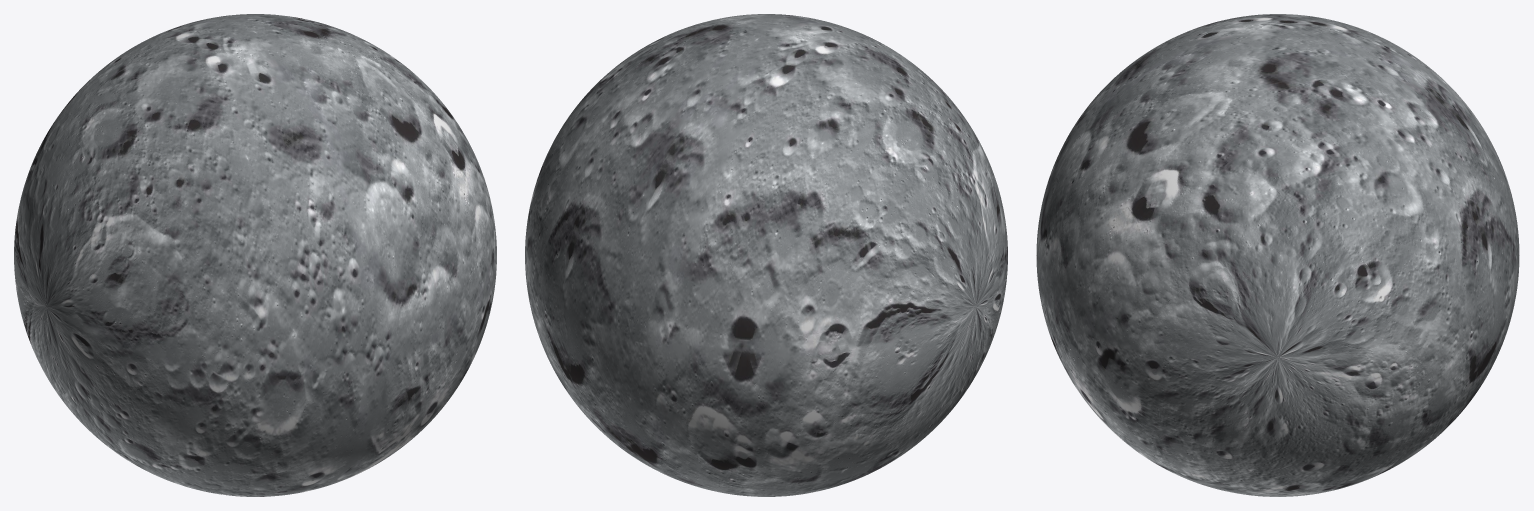
The model's file is planet_200.FBX.
3 renders of one model, left to right at view 1: azimuth 30°, elevation 25°; view 2: azimuth 150°, elevation 25°; view 3: azimuth 270°, elevation 25°, orthographic.
Visible parts, largest first — view 1: planet_200; view 2: planet_200; view 3: planet_200.
Part boxes in pixels (x1,y1,x2,y2): planet_200: [14, 14, 496, 496]; planet_200: [525, 14, 1007, 496]; planet_200: [1036, 14, 1519, 496].
Size of the model in its own units: 39.37 by 39.37 by 39.37.
Materials: 1 (1 with a texture image).
